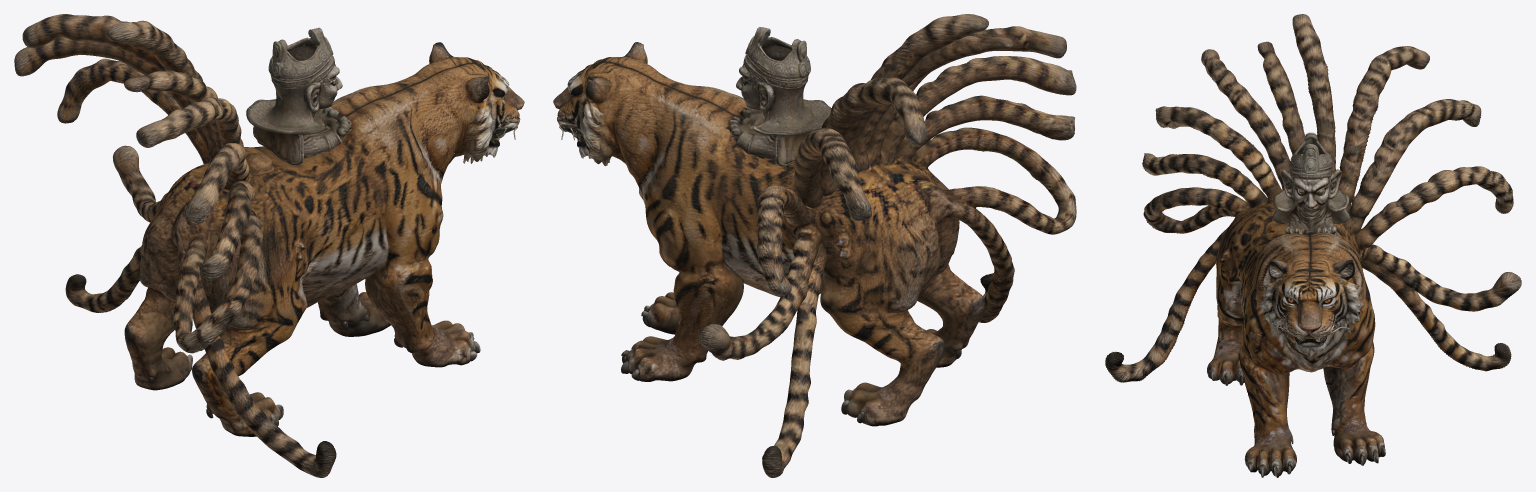
The model's file is luwu.glb.
3 views of the same model, side by side, from view 1: azimuth 30°, elevation 25°; view 2: azimuth 150°, elevation 25°; view 3: azimuth 270°, elevation 25° (orthographic). The views are drawn at different scales.
Visible parts, largest first — view 1: tripo_node_ad0c4142-aca4-40a4-bacf-71adaffca76f; view 2: tripo_node_ad0c4142-aca4-40a4-bacf-71adaffca76f; view 3: tripo_node_ad0c4142-aca4-40a4-bacf-71adaffca76f.
Boxes of the visible parts, x1,y1,x2,y2 form: tripo_node_ad0c4142-aca4-40a4-bacf-71adaffca76f: [14, 14, 524, 477]; tripo_node_ad0c4142-aca4-40a4-bacf-71adaffca76f: [553, 14, 1076, 477]; tripo_node_ad0c4142-aca4-40a4-bacf-71adaffca76f: [1105, 14, 1521, 477].
Bounding box in the file's own units: 0.9793 × 0.8347 × 0.9585.
Materials: 1 (1 with a texture image).
